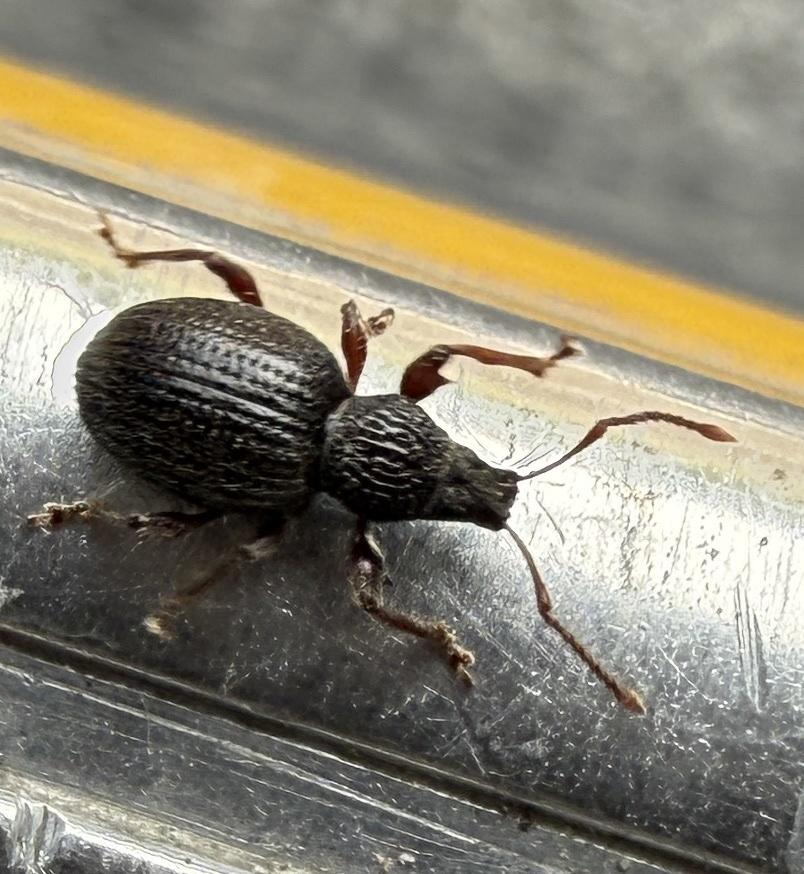weevils: (0, 135, 784, 784)
